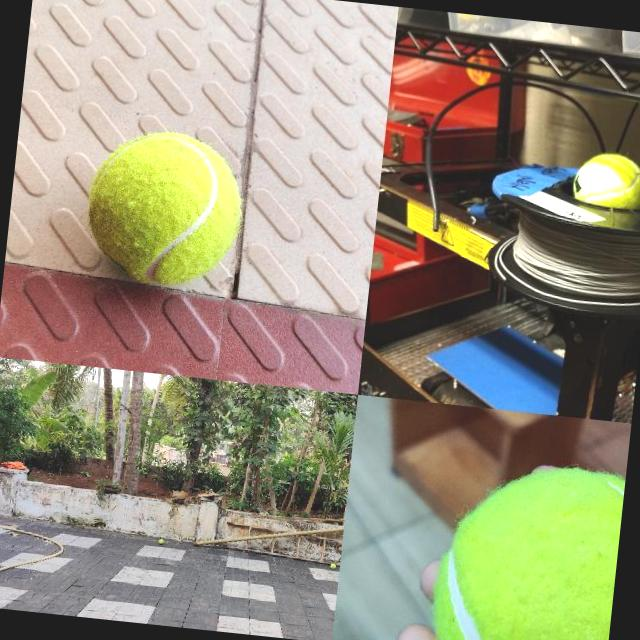Tennis Ball: (426, 455, 625, 640), (80, 124, 248, 290), (571, 148, 640, 201), (158, 538, 163, 544), (331, 563, 336, 569)
